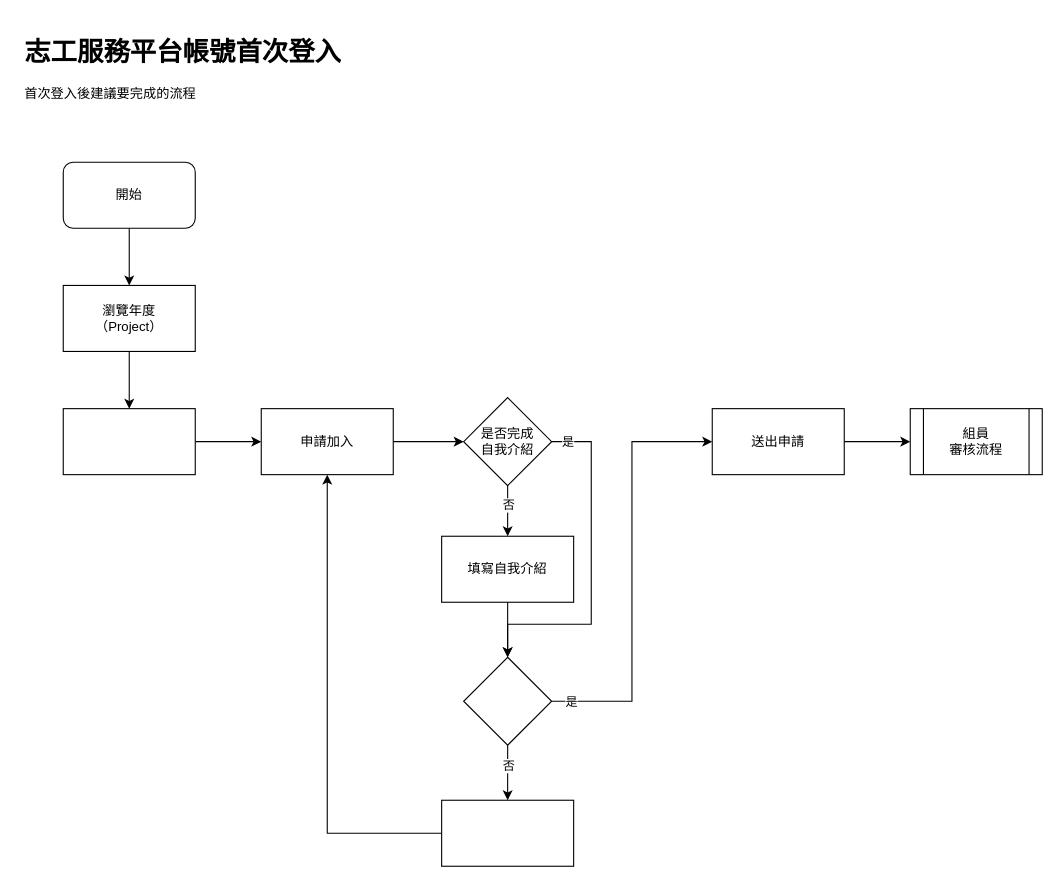
The diagram is 1062 pixels wide and 886 high, and some of its shapes have lost their labels. The shapes that lost their labels are listed below. From the top down, each one's centre as x and y in pixels, then its label:
At point 128,441: "瀏覽組別 （Team）".
At point 507,700: "是否開通 mattermost 帳號".
At point 507,832: "送出邀請登入 完成開通".
